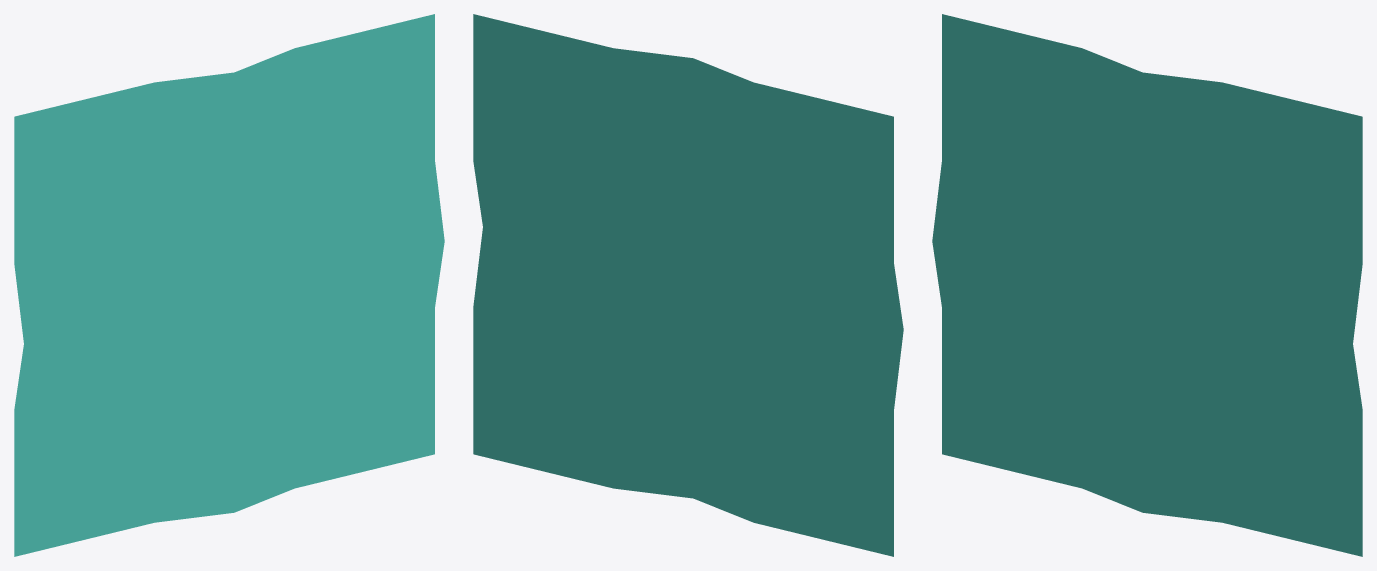
File: generated-mesh-lod.gltf
The picture shows the model from 3 angles, left to right: view 1: azimuth 30°, elevation 25°; view 2: azimuth 150°, elevation 25°; view 3: azimuth 330°, elevation 25°; orthographic projection.
Parts seen in each view (by area): view 1: Generated AutoLod eligible mesh; view 2: Generated AutoLod eligible mesh; view 3: Generated AutoLod eligible mesh.
Boxes of the visible parts, bbox=[...] form: Generated AutoLod eligible mesh: bbox=[14, 14, 444, 556]; Generated AutoLod eligible mesh: bbox=[473, 14, 903, 556]; Generated AutoLod eligible mesh: bbox=[932, 14, 1362, 556].
Size of the model in its own units: 2 by 2 by 0.08.
